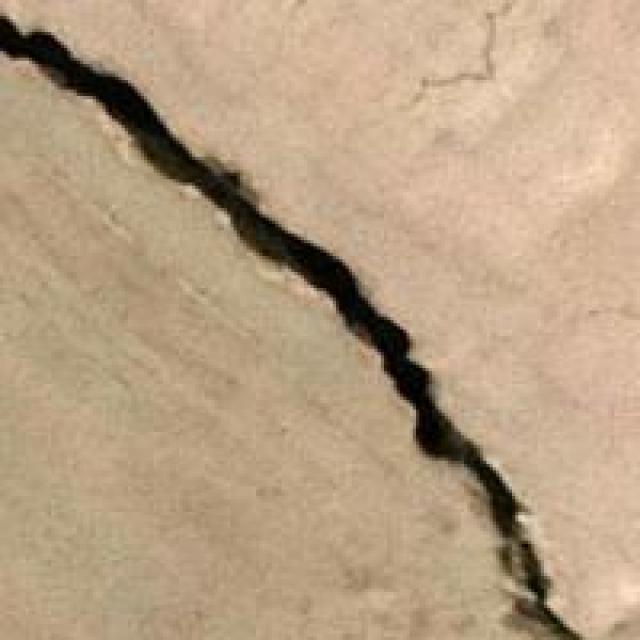Crack: (0, 0, 579, 630)
